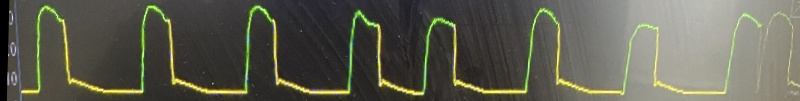normal_pressure: (19, 0, 731, 101)
